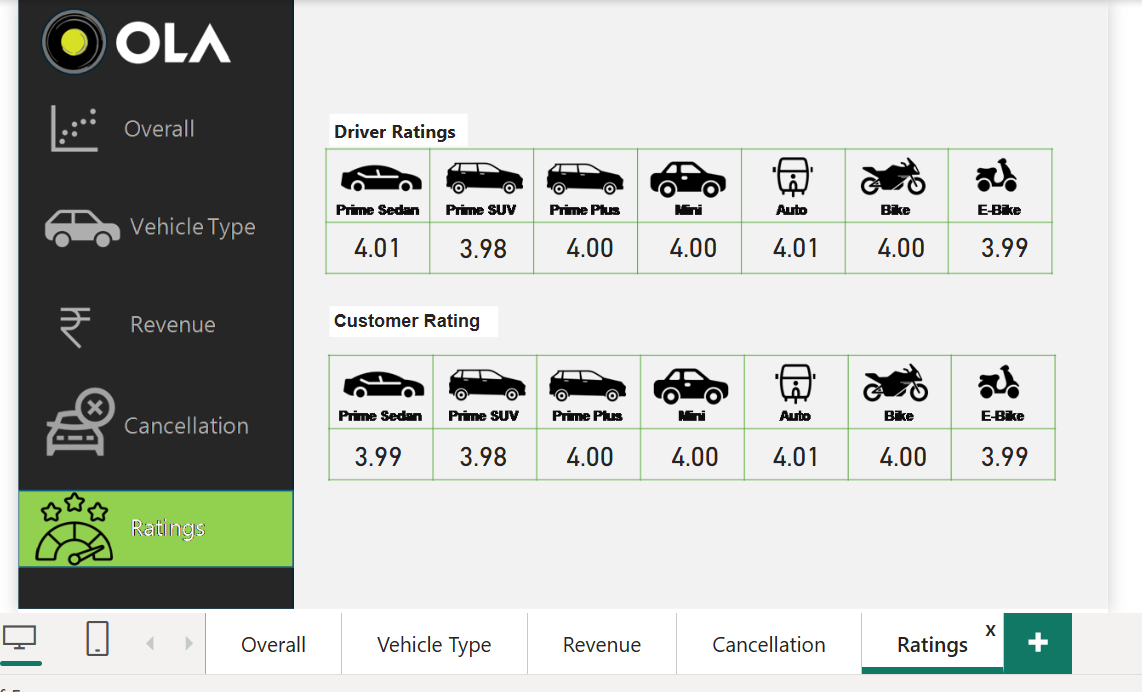

The dashboard page shown, as its layout file describes it:
{"tool":"powerbi","page":{"name":"Ratings","canvas":[1280,720],"ordinal":4},"visuals":[{"type":"actionButton","box":[0,218,324.9,90.5],"z":0},{"type":"actionButton","box":[0,106.9,324.9,90.5],"z":1000},{"type":"actionButton","box":[0,341.3,324.9,90.5],"z":2000},{"type":"actionButton","box":[10,351.3,324.9,90.5],"z":3000},{"type":"actionButton","box":[0,446.2,324.9,90.5],"z":4000},{"type":"card","title":"Cancelled Bookings","fields":{"Values":["Avg(January.Driver_Ratings)"]},"box":[366,264,109,54],"z":5000},{"type":"card","title":"Cancelled Bookings","fields":{"Values":["Avg(January.Driver_Ratings)"]},"box":[614,264,110,54],"z":6000},{"type":"card","title":"Cancelled Bookings","fields":{"Values":["Avg(January.Driver_Ratings)"]},"box":[490,266,110,52],"z":7000},{"type":"card","title":"Cancelled Bookings","fields":{"Values":["Avg(January.Driver_Ratings)"]},"box":[738,264,106,53],"z":8000},{"type":"card","title":"Cancelled Bookings","fields":{"Values":["Avg(January.Driver_Ratings)"]},"box":[858,264,110,54],"z":9000},{"type":"card","title":"Cancelled Bookings","fields":{"Values":["Avg(January.Driver_Ratings)"]},"box":[982,264,105,54],"z":10000},{"type":"card","title":"Cancelled Bookings","fields":{"Values":["Avg(January.Driver_Ratings)"]},"box":[1102,264,110,54],"z":11000},{"type":"textbox","box":[366,134,162,38],"z":12000},{"type":"textbox","box":[366,360,198,36],"z":13000},{"type":"card","title":"Cancelled Bookings","fields":{"Values":["Avg(January.Customer_Rating)"]},"box":[366,508,110,54],"z":14000},{"type":"card","title":"Cancelled Bookings","fields":{"Values":["Avg(January.Driver_Ratings)"]},"box":[738,508,110,54],"z":15000},{"type":"card","title":"Cancelled Bookings","fields":{"Values":["Avg(January.Driver_Ratings)"]},"box":[614,508,110,54],"z":16000},{"type":"card","title":"Cancelled Bookings","fields":{"Values":["Avg(January.Driver_Ratings)"]},"box":[490,508,110,54],"z":17000},{"type":"card","title":"Cancelled Bookings","fields":{"Values":["Avg(January.Driver_Ratings)"]},"box":[858,508,110,54],"z":17001},{"type":"card","title":"Cancelled Bookings","fields":{"Values":["Avg(January.Driver_Ratings)"]},"box":[982,508,110,54],"z":17002},{"type":"card","title":"Cancelled Bookings","fields":{"Values":["Avg(January.Driver_Ratings)"]},"box":[1102,508,110,54],"z":17003}]}

Visuals, with their boxes on the page's 1280x720 design canvas (x1, y1, x2, y2). These are canvas units, not pixel positions in the 1142x692 screenshot, which may show the page scaled, cropped or inside an application window:
actionButton: [0, 218, 325, 308]
actionButton: [0, 107, 325, 197]
actionButton: [0, 341, 325, 432]
actionButton: [10, 351, 335, 442]
actionButton: [0, 446, 325, 537]
"Cancelled Bookings" card: [366, 264, 475, 318]
"Cancelled Bookings" card: [614, 264, 724, 318]
"Cancelled Bookings" card: [490, 266, 600, 318]
"Cancelled Bookings" card: [738, 264, 844, 317]
"Cancelled Bookings" card: [858, 264, 968, 318]
"Cancelled Bookings" card: [982, 264, 1087, 318]
"Cancelled Bookings" card: [1102, 264, 1212, 318]
textbox: [366, 134, 528, 172]
textbox: [366, 360, 564, 396]
"Cancelled Bookings" card: [366, 508, 476, 562]
"Cancelled Bookings" card: [738, 508, 848, 562]
"Cancelled Bookings" card: [614, 508, 724, 562]
"Cancelled Bookings" card: [490, 508, 600, 562]
"Cancelled Bookings" card: [858, 508, 968, 562]
"Cancelled Bookings" card: [982, 508, 1092, 562]
"Cancelled Bookings" card: [1102, 508, 1212, 562]
